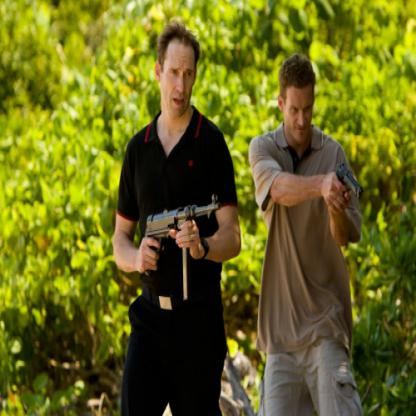Guns: (137, 190, 225, 303), (332, 159, 364, 202)
